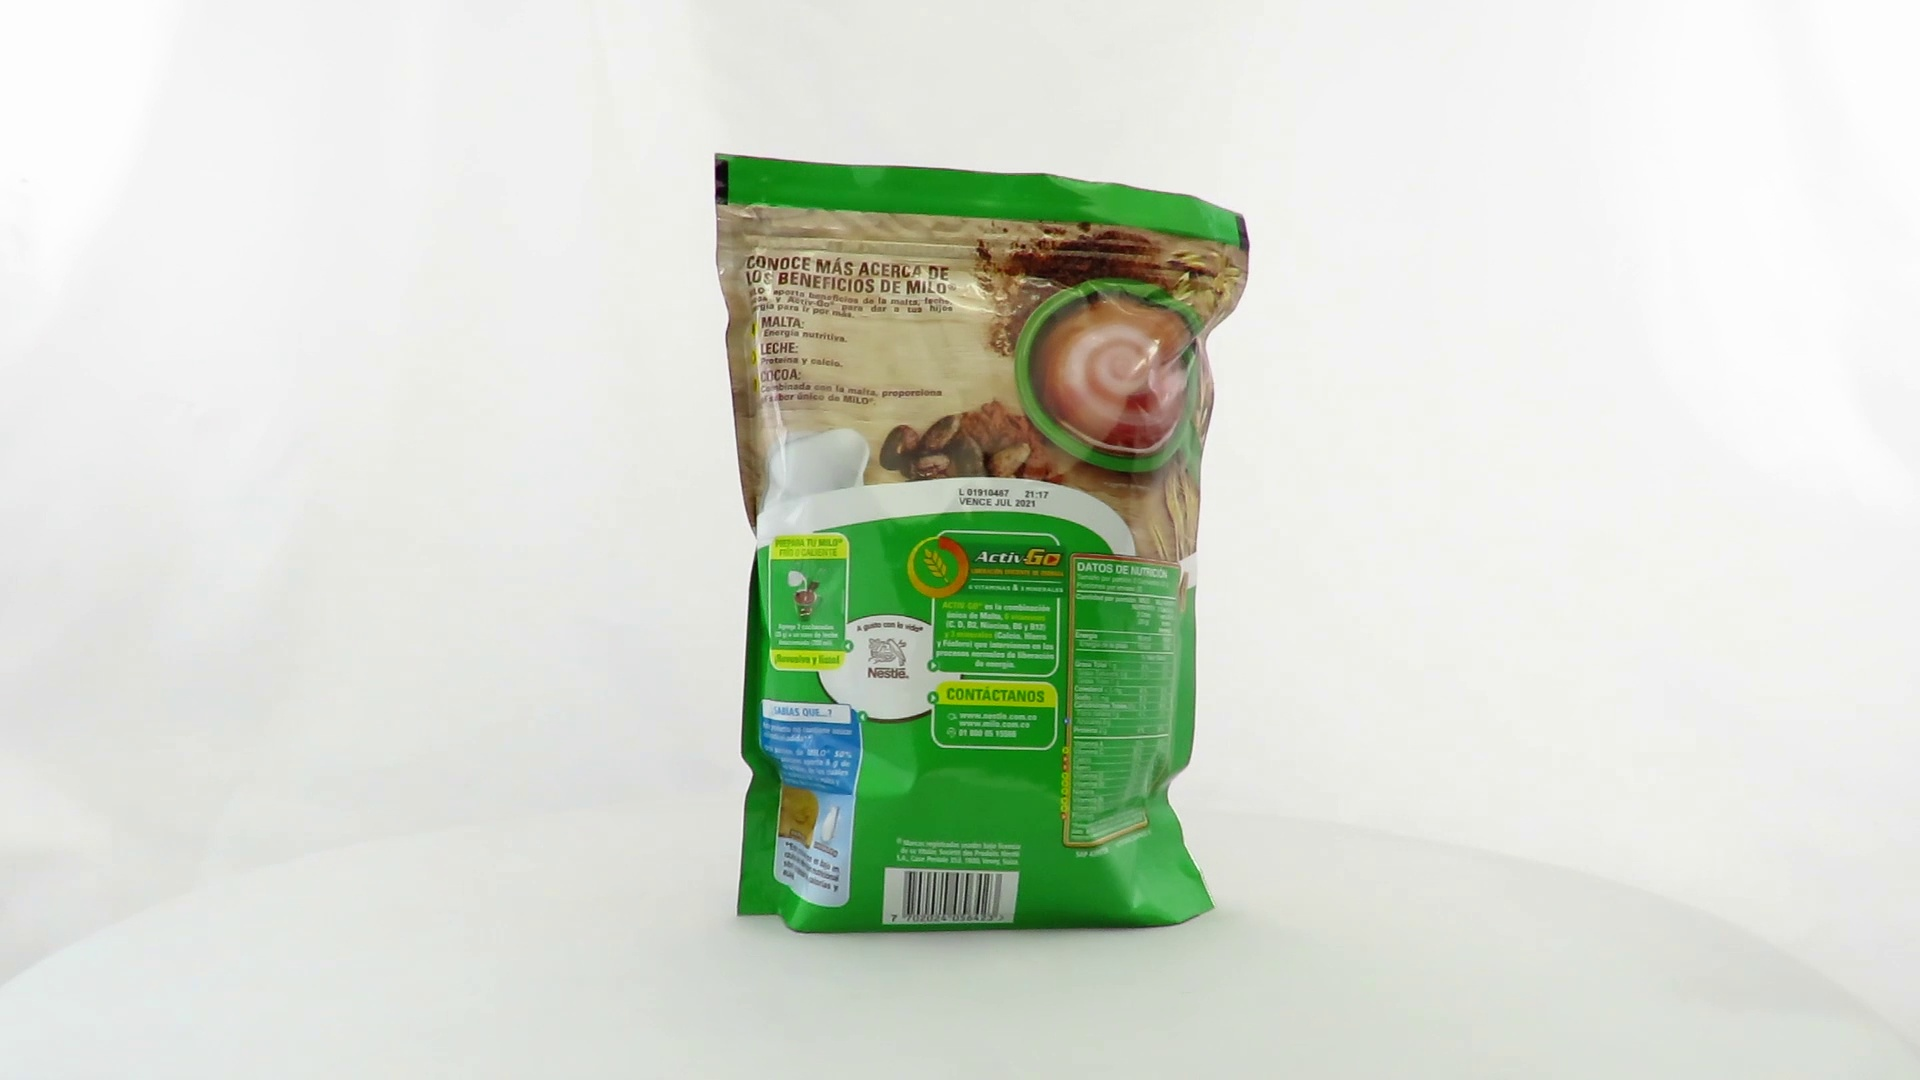COL0170205DYP50000: (709, 148, 1255, 940)
